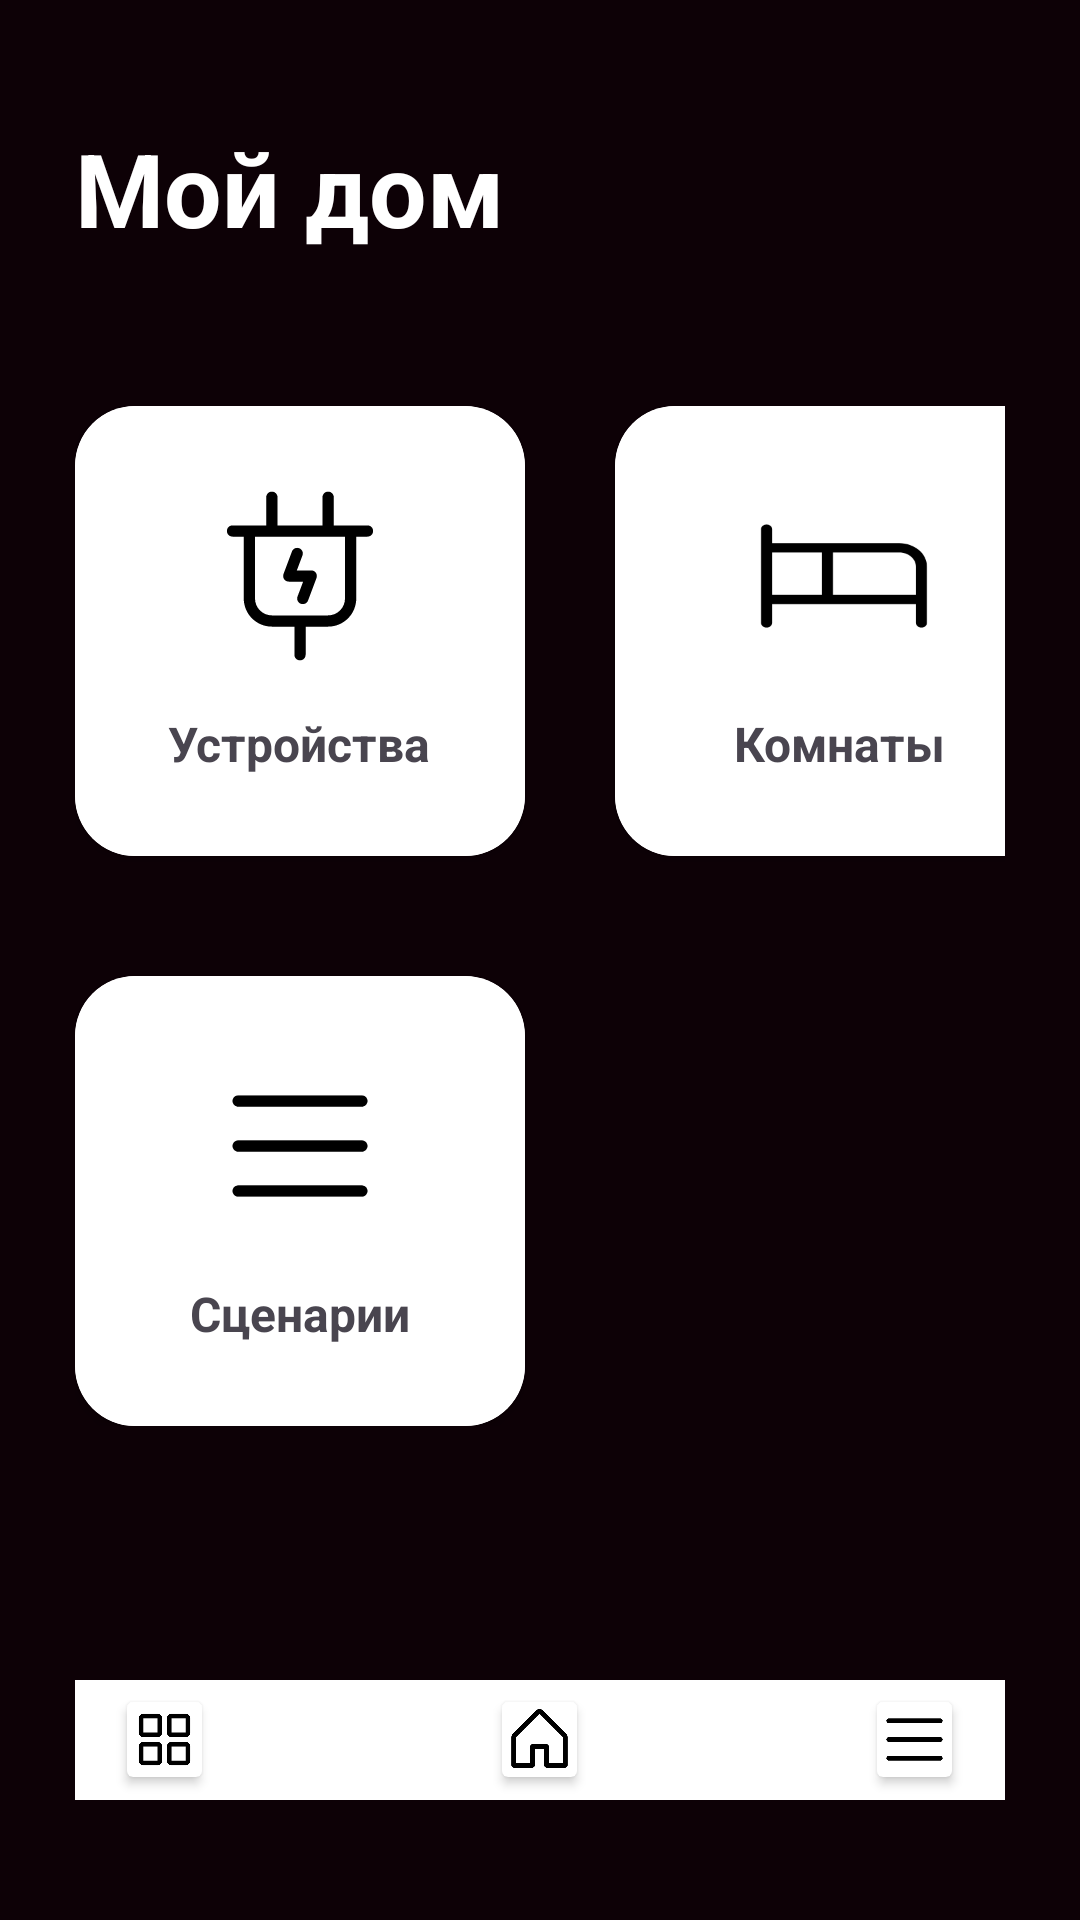

Where to tap for icons on this 1080 x 1920 app screen, as [x,y]:
bed: [843,576]
house: [539,1738]
list: [300,1146], [914,1739]
plugcharging: [300,576]
squaresfour: [164,1739]
